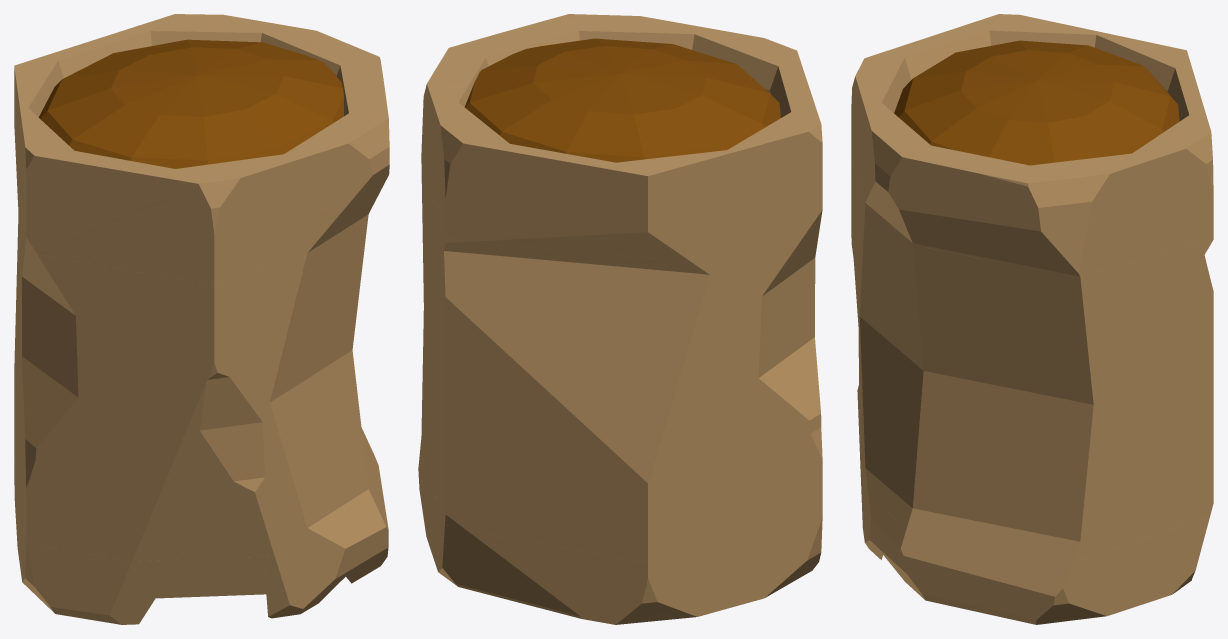
Rendered from SoilSack.fbx.
3 renders of one model, left to right at view 1: azimuth 30°, elevation 25°; view 2: azimuth 150°, elevation 25°; view 3: azimuth 270°, elevation 25°, orthographic. The views are drawn at different scales.
Visible parts, largest first — view 1: node_id41, node_id48; view 2: node_id41, node_id48; view 3: node_id41, node_id48.
Boxes of the visible parts, x1,y1,x2,y2 form: node_id41: (14, 14, 389, 624); node_id48: (38, 39, 343, 168); node_id41: (418, 14, 822, 624); node_id48: (464, 38, 780, 162); node_id41: (851, 14, 1213, 624); node_id48: (894, 40, 1179, 165).
Size of the model in its own units: 0.4427 by 0.5351 by 0.381.
2 materials, 2 textured.
